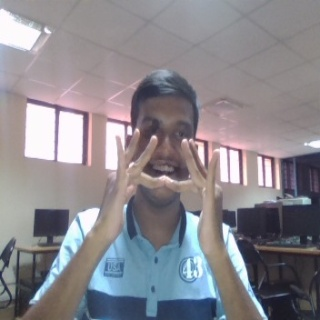Internet: (92, 126, 227, 263)
